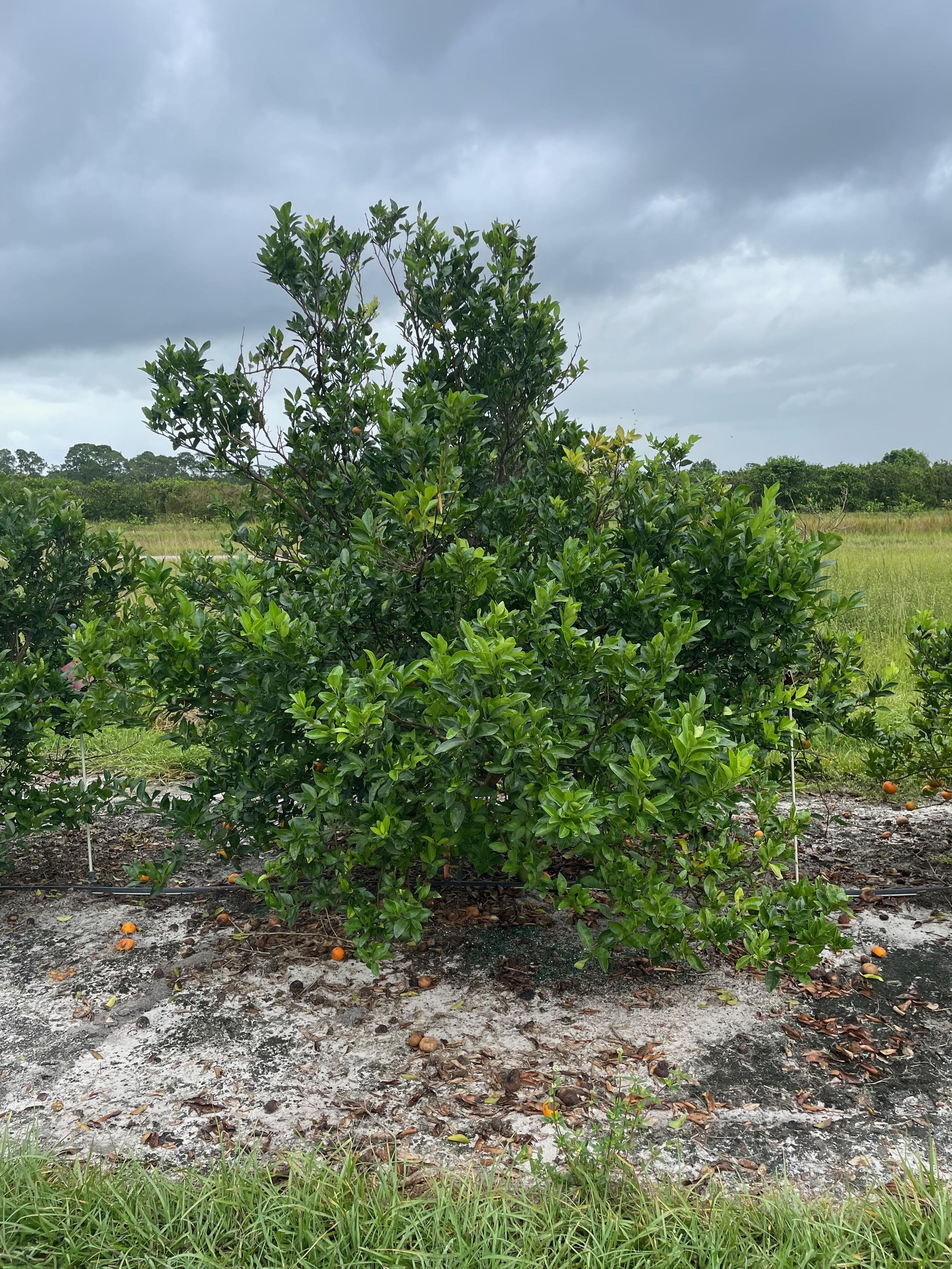fruit_on_ground: (881, 779, 899, 796), (926, 774, 944, 789), (796, 736, 812, 751), (312, 760, 327, 773), (939, 789, 952, 802), (361, 323, 374, 336), (352, 426, 362, 435)
fruit_on_tree: (540, 1096, 564, 1118), (558, 1089, 583, 1108), (650, 1058, 672, 1078), (417, 1035, 440, 1054), (415, 973, 435, 992), (328, 944, 348, 963), (860, 960, 880, 978), (114, 937, 136, 953), (407, 1030, 425, 1049), (836, 911, 855, 927), (870, 943, 889, 959), (120, 919, 138, 935), (215, 910, 232, 925), (894, 813, 910, 827), (226, 870, 241, 884), (215, 845, 229, 858), (137, 871, 151, 884), (221, 820, 234, 832), (904, 798, 917, 810)
